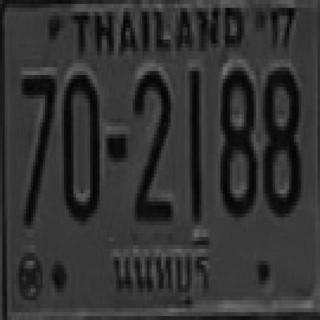N00: (62, 71, 97, 217)
N01: (187, 69, 199, 219)
N02: (133, 69, 171, 219)
N07: (19, 73, 54, 223)
N08: (261, 63, 299, 213), (218, 65, 253, 215)
P37: (109, 234, 215, 309)
